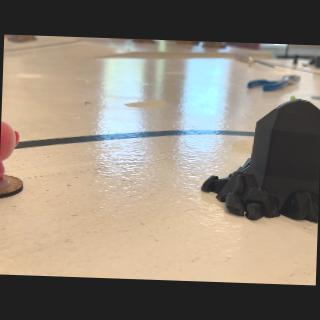teletubby: (0, 121, 19, 181), (290, 96, 296, 100)
